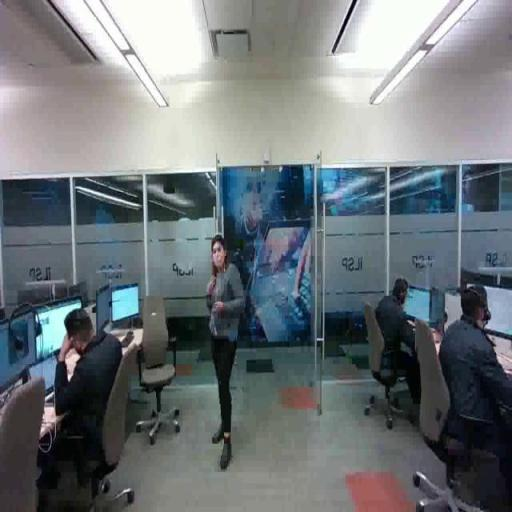person: (40, 309, 133, 512), (435, 284, 512, 512), (203, 236, 248, 477), (368, 277, 429, 423)
